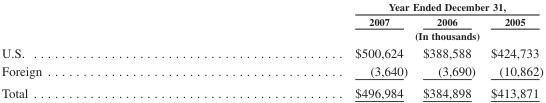table: (0, 0, 542, 99)
table column: (197, 0, 414, 99), (0, 0, 197, 99), (414, 0, 482, 99), (482, 0, 542, 99)
table column header: (0, 0, 542, 43)
table row: (0, 61, 542, 81), (0, 43, 542, 61), (0, 81, 542, 99), (0, 13, 542, 28), (0, 28, 542, 43), (0, 0, 542, 13)
table spanning cell: (197, 28, 542, 43), (197, 0, 542, 13)
